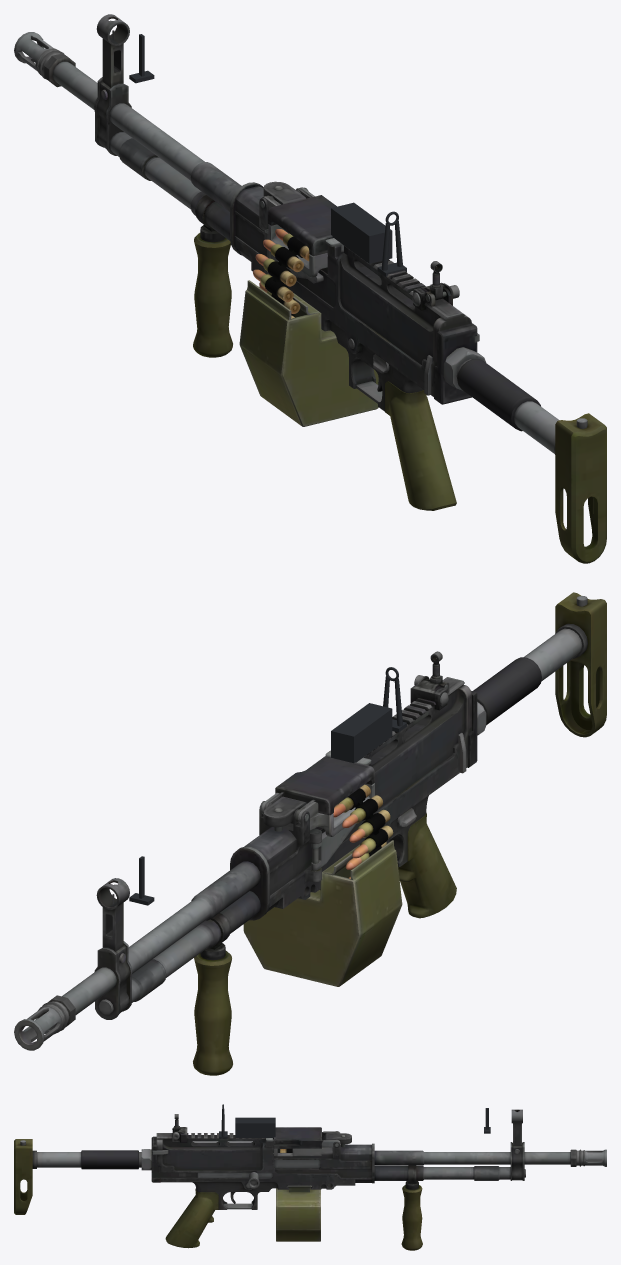
The picture shows the model from 3 angles, top to bottom: view 1: azimuth 30°, elevation 25°; view 2: azimuth 150°, elevation 25°; view 3: azimuth 270°, elevation 25°; orthographic projection. The views are drawn at different scales.
Visible parts, largest first — view 1: body, mag, cover, belt, rearsight; view 2: body, mag, cover, belt, rearsight; view 3: body, mag, cover, charge.
Part boxes in pixels (x1,y1,x2,y2): body: (14,14,606,563); mag: (239,280,378,426); cover: (266,188,343,255); belt: (253,229,309,318); rearsight: (377,211,406,276); body: (14,592,606,1075); mag: (243,840,402,986); cover: (264,750,374,823); belt: (333,784,393,878); rearsight: (383,667,406,732); body: (14,1108,606,1250); mag: (276,1185,320,1241); cover: (266,1127,340,1148); charge: (197,1153,320,1188).
Bounding box in the file's own units: 0.1318 × 0.2926 × 1.1.
Materials: 2 (1 with a texture image).
